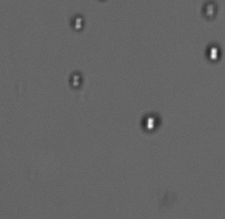Dead Cell: (200, 1, 219, 20)
Living Cell: (140, 113, 160, 132), (206, 43, 222, 62), (68, 71, 84, 90), (70, 12, 85, 32)
